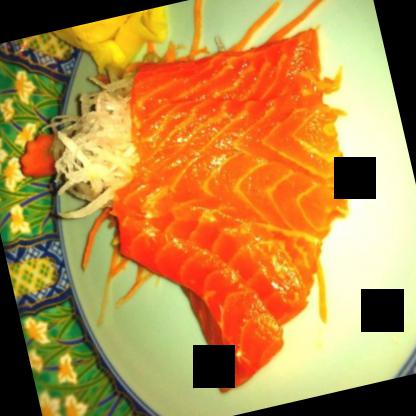salmon: (75, 11, 401, 402)
